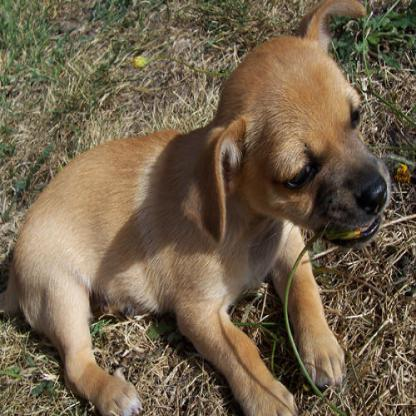dog: (0, 0, 394, 415)
